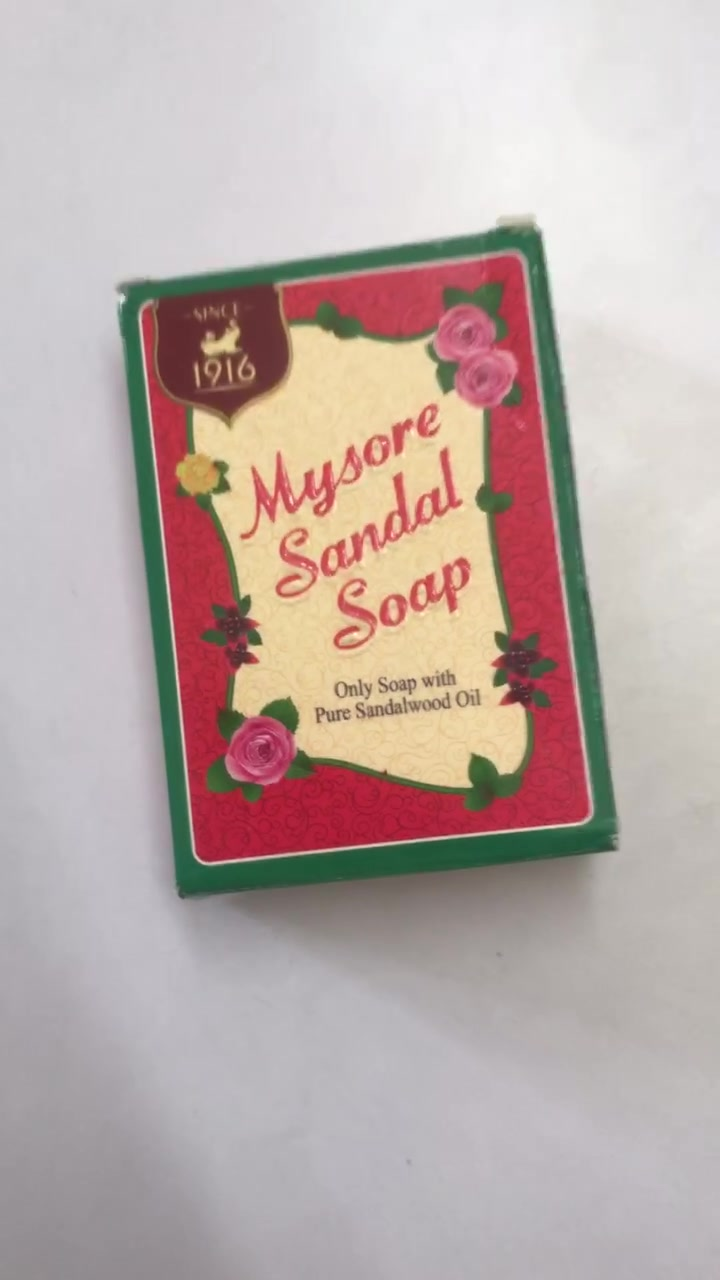mysore sandal soap: (127, 235, 614, 895)
